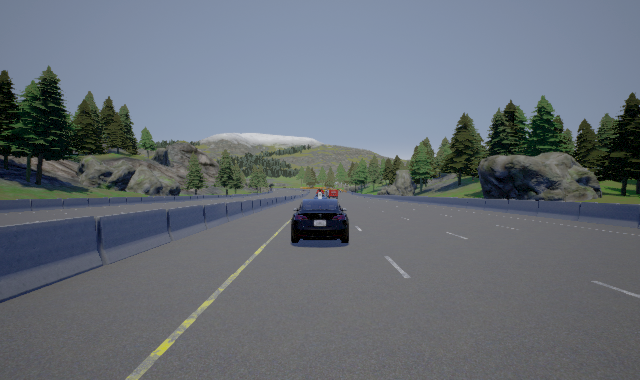vehicle: (291, 189, 349, 243)
